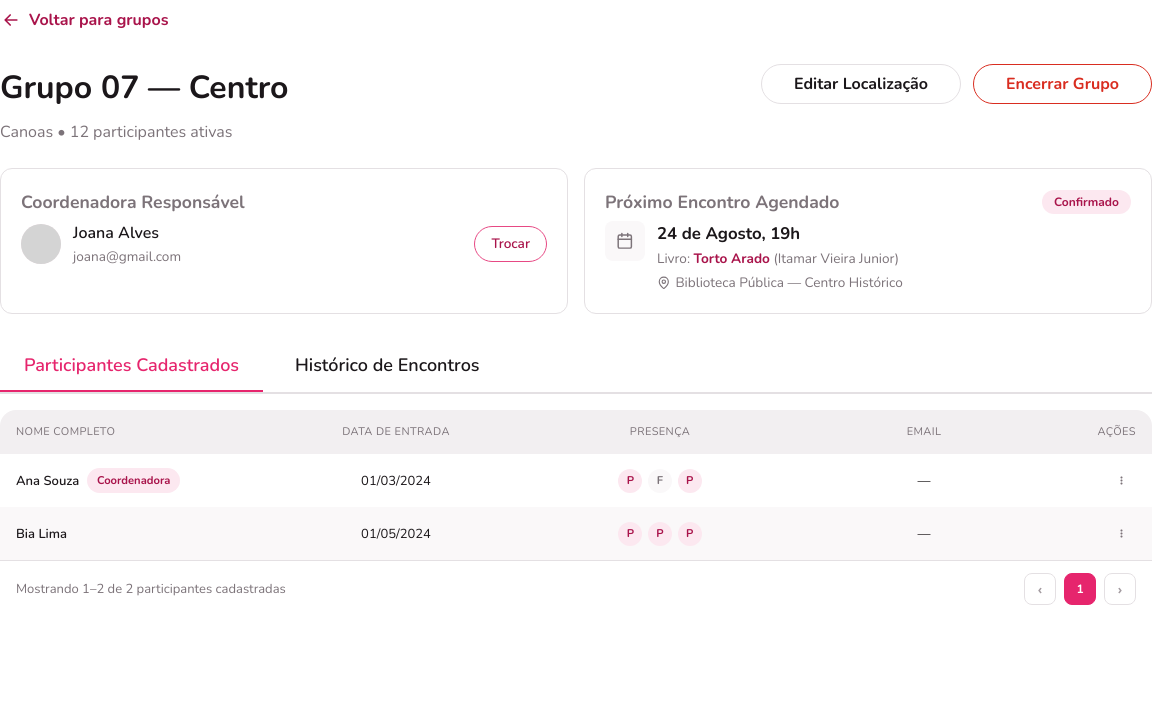
Test case: GroupDetails › encerra o grupo pelo modal de confirmação
Click the button "Encerrar Grupo". click: (1063, 84)
box: [973,64,1151,104]
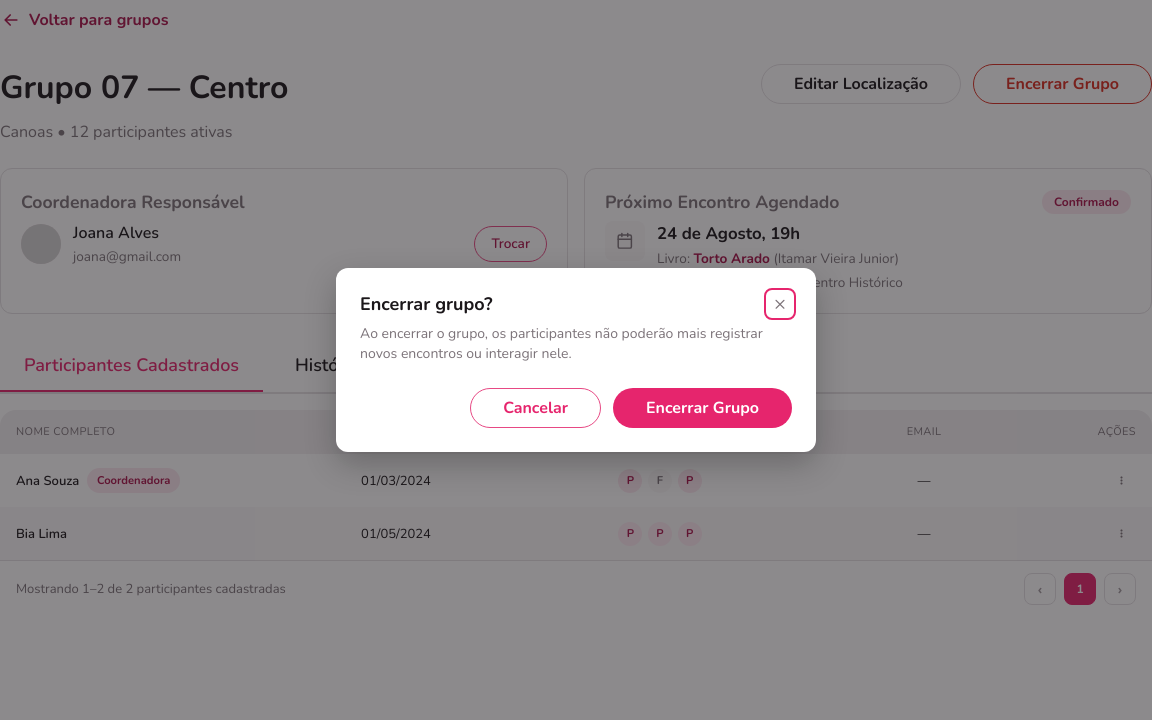
Click the button "Encerrar Grupo". click: (703, 408)
box: [613,388,792,428]
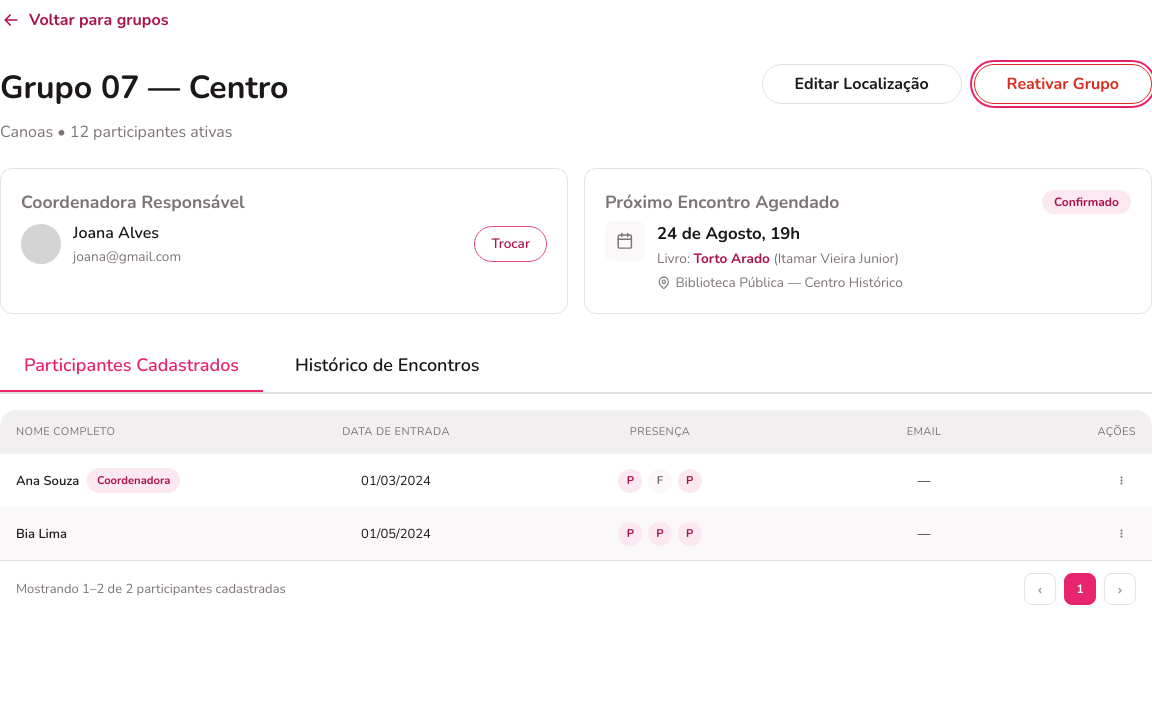
Result: the dialog is gone
Result: the button "Reativar Grupo" is shown at [974,64,1151,104]
